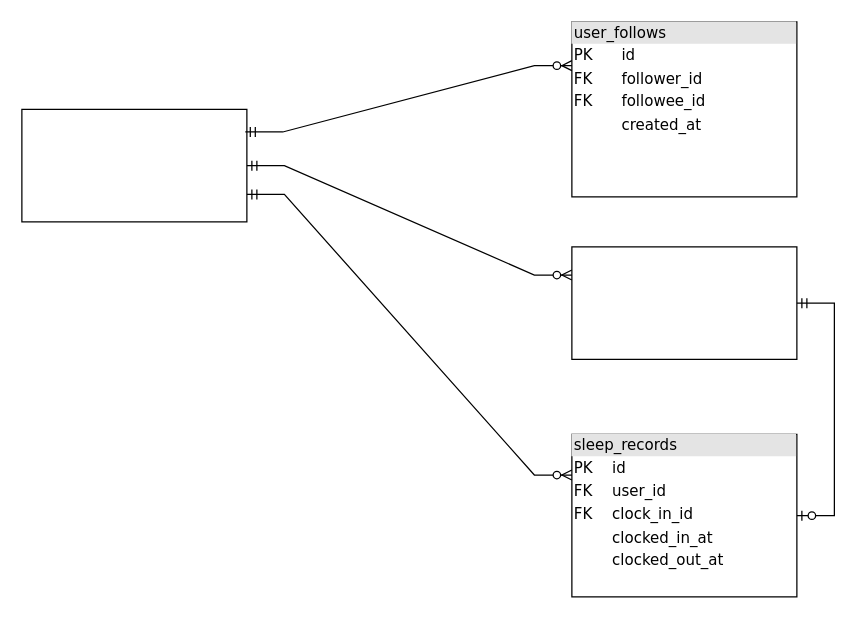
This 868x619 diagram has some shape labels left out. Each missing label, with the box of its shape:
clock_ins PK id FK user_id clocked_in_at is_clocked_out: (571, 246, 797, 359)
users PK id name: (21, 108, 247, 222)
